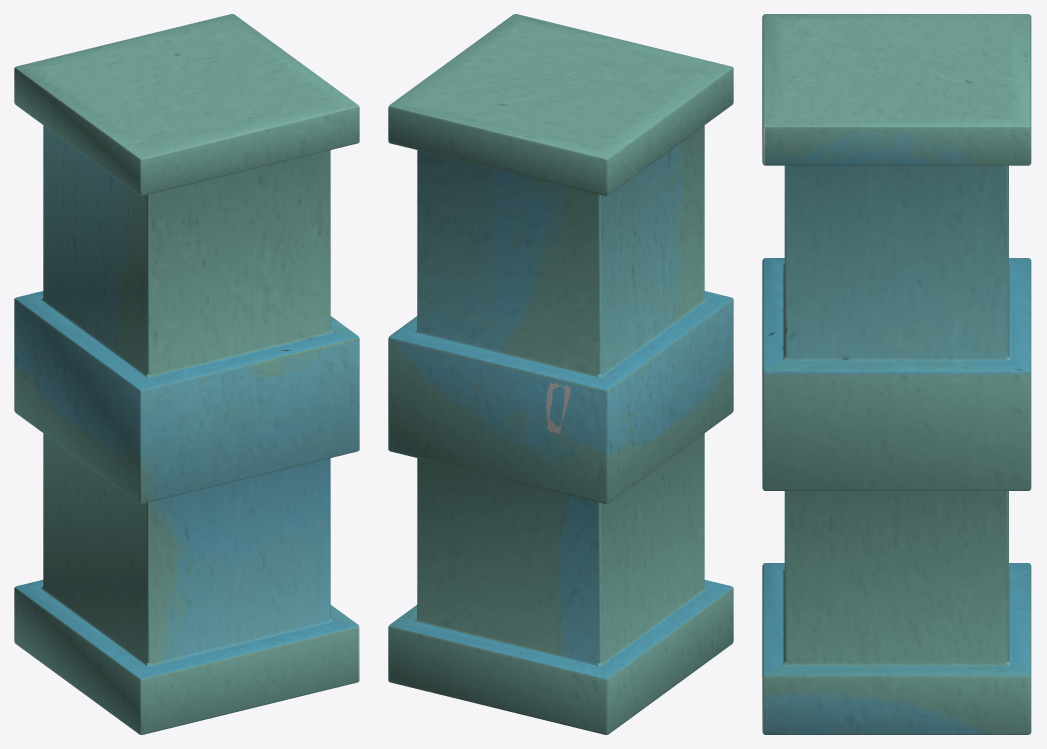
File: TOMB_PILLAR_BIG_002.obj
The picture shows the model from 3 angles, left to right: view 1: azimuth 30°, elevation 25°; view 2: azimuth 150°, elevation 25°; view 3: azimuth 270°, elevation 25°; orthographic projection. The views are drawn at different scales.
Parts seen in each view (by area): view 1: TOMB_PILLAR_BIG_002; view 2: TOMB_PILLAR_BIG_002; view 3: TOMB_PILLAR_BIG_002.
Part boxes in pixels (x1,y1,x2,y2): TOMB_PILLAR_BIG_002: (14, 14, 359, 734); TOMB_PILLAR_BIG_002: (388, 14, 733, 734); TOMB_PILLAR_BIG_002: (762, 14, 1031, 734).
Bounding box in the file's own units: 1.2 × 3 × 1.21.
